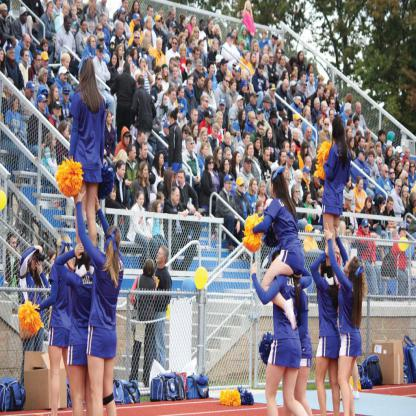face: (344, 256, 354, 272), (30, 256, 38, 271), (156, 249, 164, 263), (51, 256, 59, 270), (264, 150, 271, 163), (29, 86, 35, 100), (390, 168, 397, 180), (131, 147, 137, 161), (207, 112, 213, 125), (391, 159, 397, 172), (227, 179, 233, 192), (174, 191, 180, 204), (120, 165, 126, 178), (124, 134, 131, 145), (44, 57, 50, 69), (119, 25, 125, 37), (158, 75, 164, 87), (134, 1, 140, 13), (364, 224, 370, 236), (134, 49, 139, 63), (65, 125, 70, 139), (41, 100, 47, 111), (141, 58, 147, 69), (91, 7, 97, 18), (102, 17, 108, 28), (243, 84, 249, 95), (259, 124, 265, 135), (204, 98, 210, 109), (360, 137, 366, 148), (25, 37, 31, 48), (22, 13, 28, 24), (246, 160, 252, 171), (261, 183, 267, 194), (224, 161, 230, 172), (214, 129, 220, 140), (193, 125, 199, 136), (24, 52, 30, 63), (9, 82, 14, 95), (66, 57, 71, 70), (158, 39, 163, 52), (225, 76, 230, 89), (173, 39, 178, 52), (267, 98, 272, 111), (112, 188, 117, 201), (199, 78, 206, 87), (14, 99, 19, 111), (55, 88, 60, 100), (67, 20, 72, 32), (64, 7, 70, 17), (72, 6, 77, 18), (108, 113, 113, 125), (229, 36, 235, 46), (209, 159, 214, 171), (397, 163, 403, 173), (403, 188, 409, 198), (308, 158, 313, 170), (218, 116, 224, 126), (189, 141, 195, 151), (179, 174, 184, 186), (140, 133, 145, 145), (37, 56, 42, 68), (62, 72, 68, 82), (241, 73, 248, 81), (56, 105, 61, 116), (92, 37, 97, 48), (172, 60, 177, 71), (172, 91, 177, 102), (181, 88, 186, 99), (189, 80, 194, 91), (237, 70, 242, 81), (253, 95, 258, 106), (240, 99, 245, 110), (254, 41, 259, 52), (247, 52, 252, 63), (204, 146, 209, 157), (281, 57, 286, 68), (384, 166, 389, 177), (295, 130, 300, 141), (331, 99, 336, 110), (282, 154, 287, 165), (253, 182, 258, 193), (259, 203, 264, 214), (193, 111, 198, 122), (160, 155, 165, 166), (139, 196, 144, 207), (143, 146, 148, 157), (12, 240, 17, 251), (256, 140, 262, 149), (77, 1, 83, 10), (123, 1, 129, 10), (401, 229, 407, 238), (99, 38, 105, 47), (295, 189, 301, 198), (249, 147, 255, 156), (264, 98, 268, 111), (44, 92, 49, 102), (49, 4, 54, 14), (83, 23, 88, 33), (135, 34, 140, 44), (174, 68, 179, 78), (252, 54, 257, 64), (188, 62, 193, 72), (358, 133, 363, 143), (371, 144, 376, 154), (369, 153, 374, 163), (246, 136, 251, 146), (226, 152, 231, 162), (218, 150, 223, 160), (169, 116, 174, 126), (10, 50, 15, 60), (349, 233, 353, 245), (348, 197, 352, 209), (65, 93, 70, 102), (224, 63, 229, 72), (260, 66, 265, 75), (193, 17, 198, 26), (185, 30, 190, 39), (182, 49, 187, 58), (195, 30, 200, 39), (200, 42, 205, 51), (198, 63, 203, 72), (203, 133, 208, 142), (208, 80, 213, 89), (285, 72, 290, 81), (310, 73, 315, 82), (350, 121, 355, 130), (368, 200, 373, 209), (389, 201, 394, 210), (377, 145, 382, 154), (388, 149, 393, 158), (406, 150, 411, 159), (284, 84, 289, 93), (302, 85, 307, 94), (316, 102, 321, 111), (323, 104, 328, 113), (325, 122, 330, 131), (285, 172, 290, 181), (297, 176, 302, 185), (306, 172, 311, 181), (307, 195, 312, 204), (319, 194, 324, 203), (251, 115, 256, 124), (239, 183, 244, 192), (237, 155, 242, 164), (44, 43, 49, 52), (129, 58, 133, 69), (165, 66, 169, 77), (53, 137, 57, 148), (233, 82, 237, 93), (263, 56, 267, 67), (221, 101, 225, 112), (164, 95, 168, 106), (241, 42, 245, 53), (234, 29, 238, 40), (182, 35, 186, 46), (192, 40, 196, 51), (270, 53, 274, 64), (264, 44, 268, 55), (359, 180, 363, 191), (144, 166, 148, 177), (293, 76, 299, 83), (296, 98, 302, 105), (99, 26, 104, 34), (99, 51, 104, 59), (113, 55, 117, 65), (210, 66, 215, 74), (233, 65, 237, 75), (272, 117, 277, 125), (150, 9, 155, 17), (247, 3, 252, 11), (303, 74, 307, 84), (296, 118, 300, 128), (405, 175, 409, 185), (381, 134, 386, 142), (397, 151, 402, 159), (308, 129, 312, 139), (320, 87, 324, 97), (319, 118, 324, 126), (268, 130, 272, 140), (285, 120, 290, 128), (291, 145, 296, 153), (289, 158, 294, 166), (184, 132, 189, 140), (147, 42, 151, 51), (119, 47, 123, 56), (136, 17, 140, 26), (191, 75, 195, 84), (210, 21, 214, 30), (184, 17, 188, 26), (196, 52, 200, 61), (103, 1, 109, 7), (278, 50, 282, 59), (300, 53, 304, 62), (311, 66, 315, 75), (406, 162, 410, 171), (398, 183, 402, 192), (294, 67, 298, 76), (351, 139, 355, 148), (349, 130, 353, 139), (358, 105, 362, 114), (326, 91, 330, 100), (157, 204, 161, 213), (44, 73, 48, 82), (58, 1, 63, 8), (359, 153, 364, 160), (180, 113, 185, 120), (3, 9, 8, 16), (150, 20, 153, 31), (258, 108, 261, 119), (349, 177, 352, 188), (2, 51, 5, 62), (159, 69, 163, 77), (172, 14, 176, 22), (172, 25, 176, 33), (280, 42, 284, 50), (272, 89, 276, 97), (379, 160, 383, 168), (381, 201, 385, 209), (356, 120, 360, 128), (307, 108, 311, 116), (331, 112, 335, 120), (330, 83, 334, 91), (286, 144, 290, 152), (227, 136, 231, 144), (165, 128, 169, 136), (214, 43, 219, 49), (292, 85, 297, 91), (243, 29, 247, 36), (148, 33, 151, 42), (178, 59, 181, 68), (243, 112, 246, 121), (162, 14, 165, 22), (122, 15, 126, 21), (264, 32, 267, 40), (216, 29, 220, 35), (203, 22, 206, 30), (274, 38, 277, 46), (305, 147, 308, 155), (411, 165, 415, 171), (159, 20, 162, 28), (350, 107, 353, 115), (161, 197, 164, 205), (215, 35, 218, 41), (138, 29, 141, 35), (309, 101, 312, 106), (415, 249, 416, 257)
